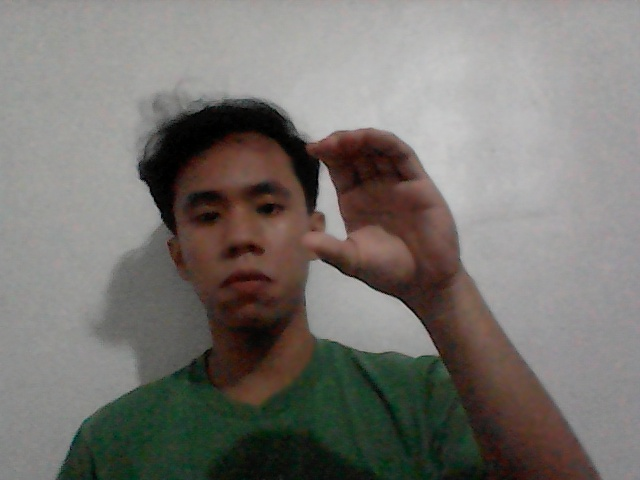C: (272, 117, 492, 311)
